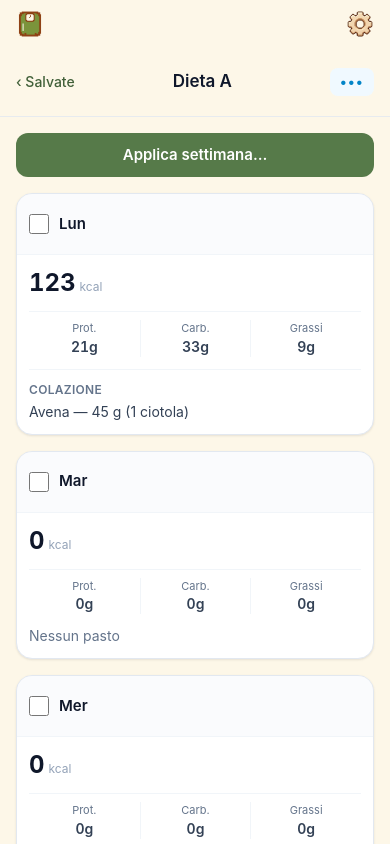
Scenario: SavedWeekDetailPage › clears the selected days when the apply dialog closes
This screenshot has width=390, height=844.
Click the checkbox named "Seleziona Mar" at (39, 482), box [29, 472, 49, 492]
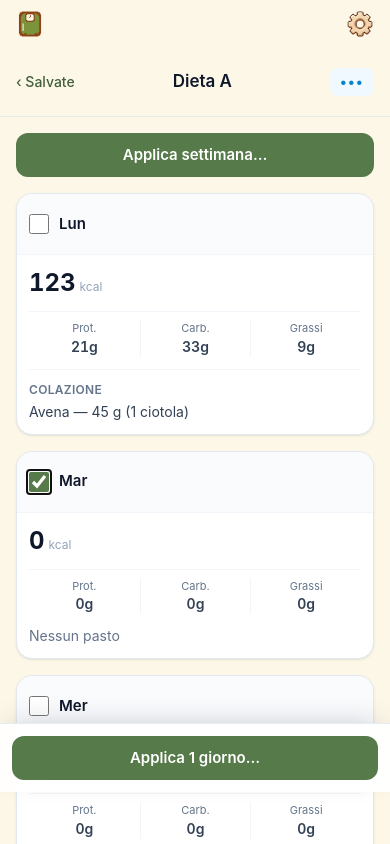
Click the button "Applica 1 giorno…" at (195, 758), box [12, 736, 378, 780]
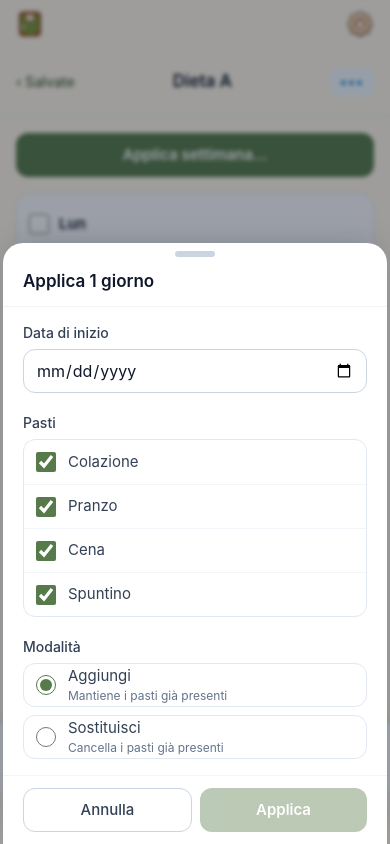
Click the button "Annulla" at (108, 810), box [23, 788, 192, 832]
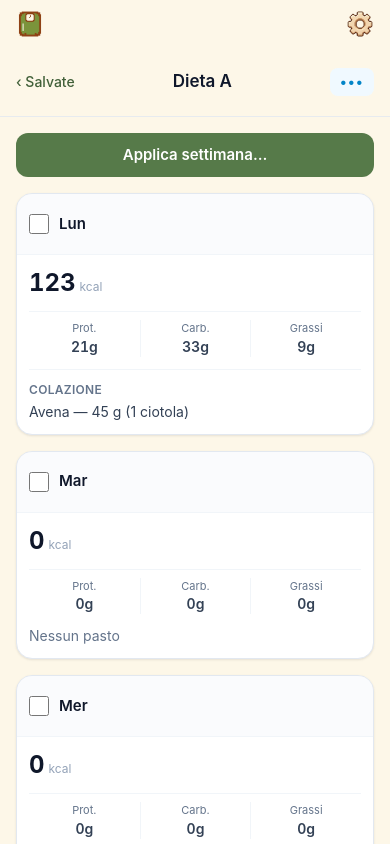
Expected: the checkbox named "Seleziona Mar" is not checked, [29, 472, 49, 492]
Expected: the button "Applica 1 giorno…" is gone
